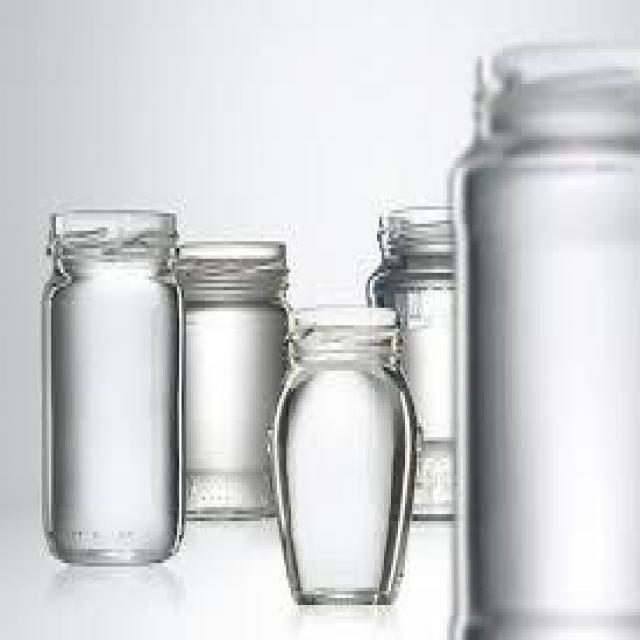non-organic waste: (446, 42, 639, 640), (36, 203, 185, 566), (267, 301, 420, 608)
